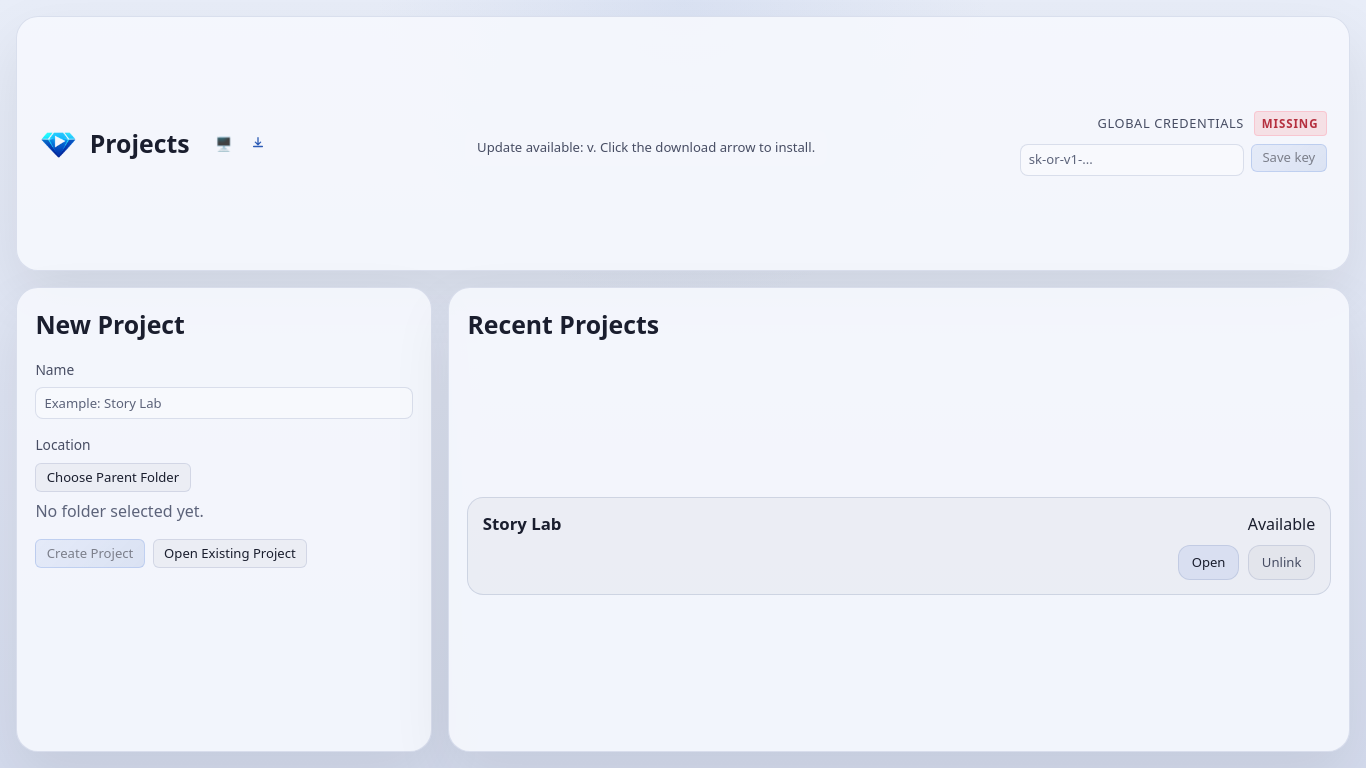
App › stores an execution api key in app credential storage
// The API key input is on the ProjectBrowser page (before opening a project)
In the password field with placeholder "sk-or-v1-...": point(1132, 160) x1=1020 y1=144 x2=1244 y2=176, type "sk-test-123"
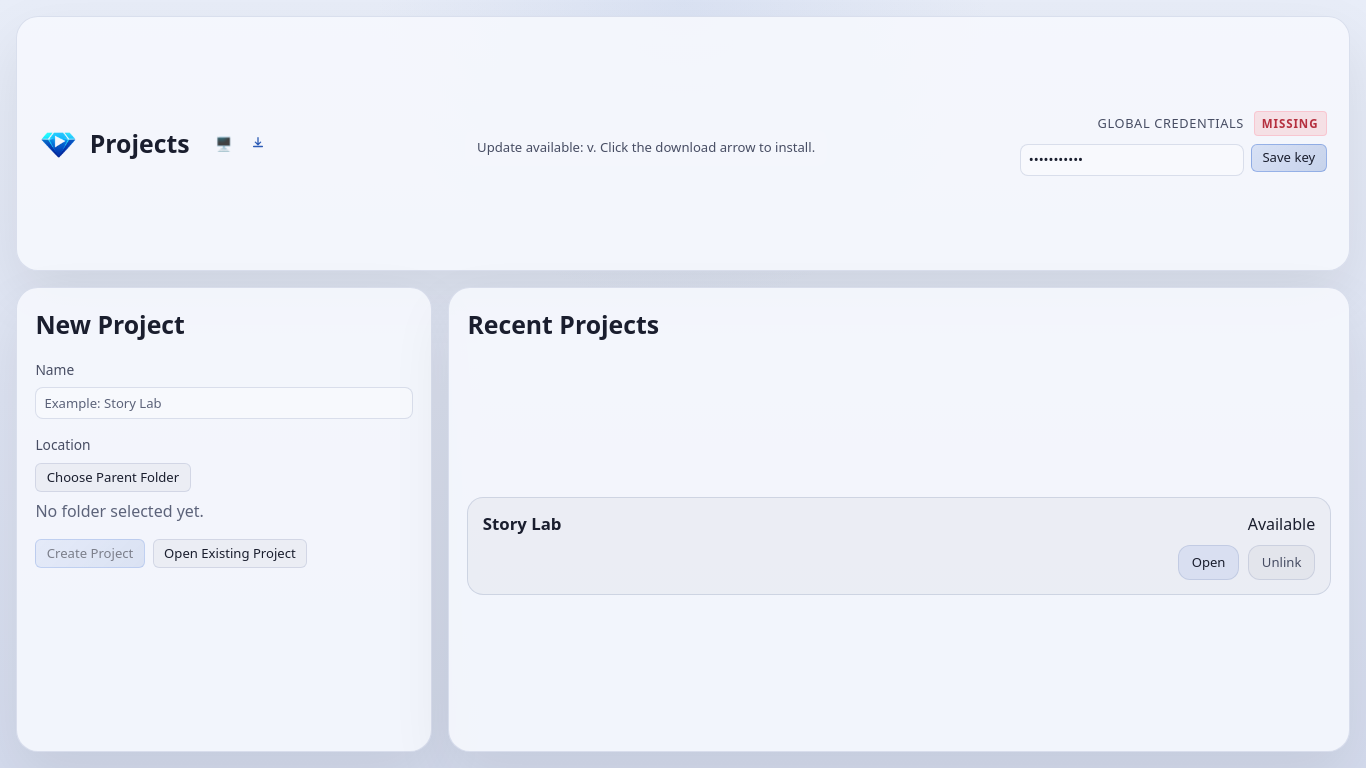
Click the button "Save key": point(1289, 158) x1=1251 y1=144 x2=1327 y2=172
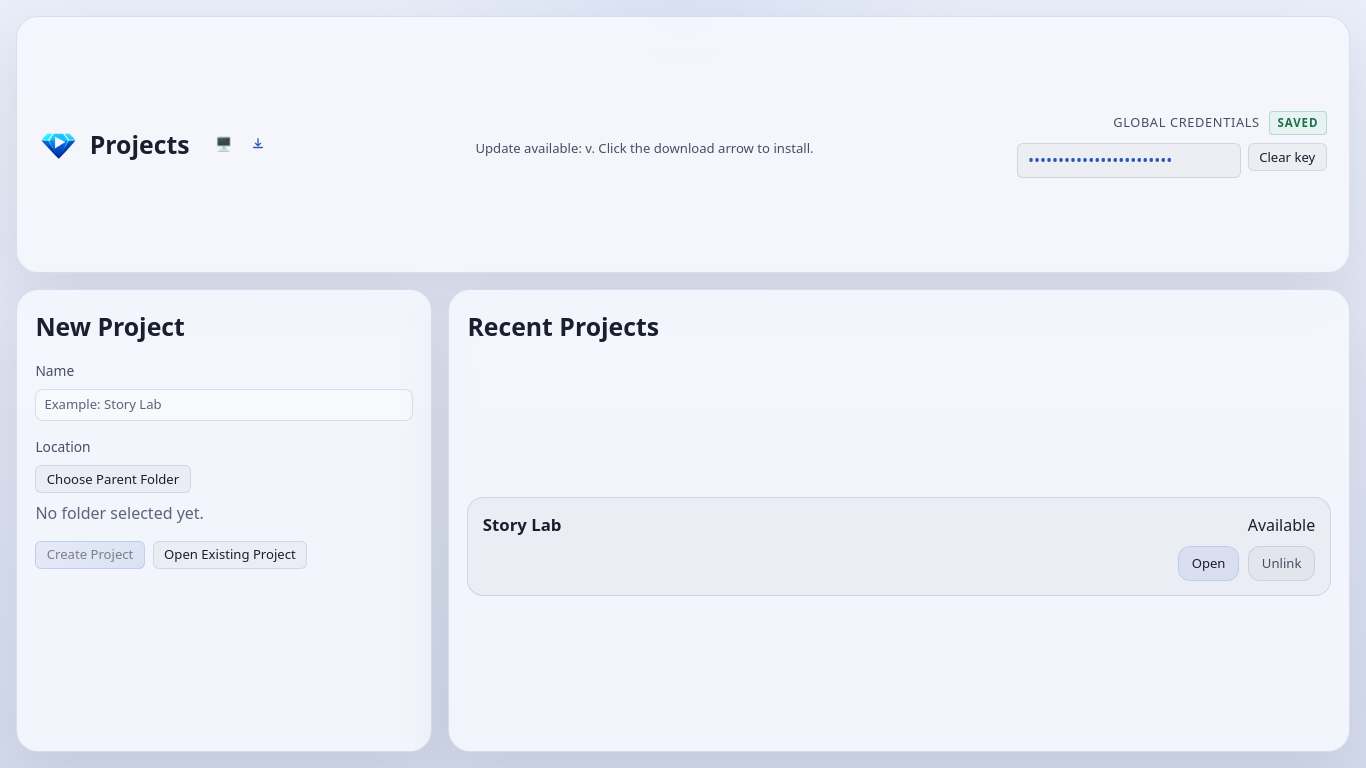
Now the text "saved" is shown, box x1=1269 y1=111 x2=1327 y2=135
